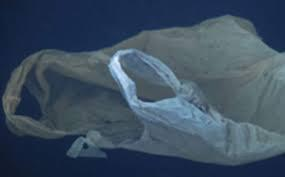Plastic bag: (5, 11, 285, 171)
